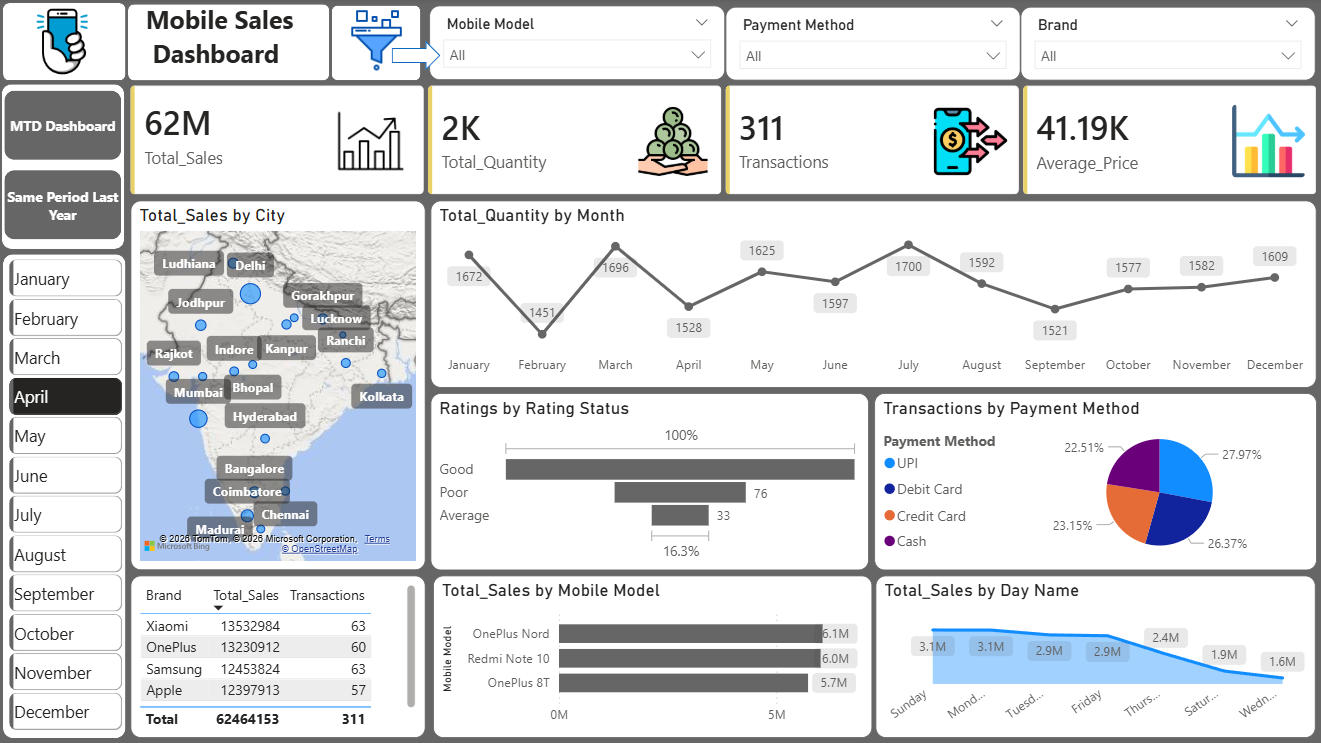

The dashboard page shown, as its layout file describes it:
{"tool":"powerbi","page":{"name":"Dashboard","canvas":[1280,720],"ordinal":0},"visuals":[{"type":"shape","box":[4.8,4.8,118.2,74.8],"z":0},{"type":"shape","box":[4,83,118.2,159],"z":1000},{"type":"shape","box":[4.8,247,118.2,467],"z":2000},{"type":"shape","box":[125.5,6,194.2,73.6],"z":3000},{"type":"shape","box":[322.1,7.2,85.7,72.4],"z":4000},{"type":"advancedSlicerVisual","fields":{"Values":["Custom_Calendar.Date.Variation.Date Hierarchy.Month"]},"box":[8.4,252.1,113.4,462.1],"z":5000},{"type":"cardVisual","fields":{"Data":["Mobile_Data_Sales.Total_Sales","Mobile_Data_Sales.Total_Quantity","Mobile_Data_Sales.Transactions","Mobile_Data_Sales.Average_Price"]},"box":[123.1,79.6,1157,115.8],"z":6000},{"type":"textbox","box":[137.5,0,182.2,79.6],"z":7000},{"type":"slicer","fields":{"Values":["Mobile_Data_Sales.Mobile Model"]},"box":[416.2,7.2,285.9,72.4],"z":8000},{"type":"slicer","fields":{"Values":["Mobile_Data_Sales.Payment Method"]},"box":[702.1,8.4,284.7,71.2],"z":9000},{"type":"slicer","fields":{"Values":["Mobile_Data_Sales.Brand"]},"box":[986.9,8.4,284.7,71.2],"z":10000},{"type":"shape","box":[380,41,47.1,29],"z":11000},{"type":"image","box":[328.2,10.9,74.8,60.3],"z":12000},{"type":"lineChart","fields":{"Y":["Mobile_Data_Sales.Total_Quantity"],"Category":["Custom_Calendar.Date.Variation.Date Hierarchy.Month"]},"box":[417.4,195.4,855.4,181],"z":13000},{"type":"funnel","title":"Ratings by Rating Status","fields":{"Y":["CountNonNull(Mobile_Data_Sales.Customer Ratings)"],"Category":["Mobile_Data_Sales.Rating Status"]},"box":[417.4,381.2,423.5,171.3],"z":14000},{"type":"pieChart","fields":{"Y":["Mobile_Data_Sales.Transactions"],"Category":["Mobile_Data_Sales.Payment Method"]},"box":[845.7,381.2,427.1,171.3],"z":15000},{"type":"map","fields":{"Category":["Mobile_Data_Sales.City"],"Size":["Mobile_Data_Sales.Total_Sales"]},"box":[127.9,195.4,284.7,357.1],"z":16000},{"type":"clusteredBarChart","fields":{"Y":["Mobile_Data_Sales.Total_Sales"],"Category":["Mobile_Data_Sales.Mobile Model"]},"box":[419.9,557.1,424,156.4],"z":17000},{"type":"areaChart","fields":{"Category":["Custom_Calendar.Day Name"],"Y":["Mobile_Data_Sales.Total_Sales"]},"box":[846.9,557.4,424.7,156.8],"z":18000},{"type":"tableEx","fields":{"Values":["Mobile_Data_Sales.Brand","Mobile_Data_Sales.Total_Sales","Mobile_Data_Sales.Transactions"]},"box":[127.9,557.4,284.7,156.8],"z":19000},{"type":"pageNavigator","box":[6,89.3,113.4,144.8],"z":20000},{"type":"image","box":[18.1,0,88.1,83.2],"z":21000}]}

Visuals, with their boxes in screenshot pixels (x1, y1, x2, y2), scaled from the page's 1280x720 canvas onto the 1321x743 screenshot:
shape: bbox=[5, 5, 127, 82]
shape: bbox=[4, 86, 126, 250]
shape: bbox=[5, 255, 127, 737]
shape: bbox=[130, 6, 330, 82]
shape: bbox=[332, 7, 421, 82]
advancedSlicerVisual - Custom_Calendar.Date.Variation.Date Hierarchy.Month: bbox=[9, 260, 126, 737]
cardVisual - Mobile_Data_Sales.Total_Sales x Mobile_Data_Sales.Total_Quantity: bbox=[127, 82, 1320, 202]
textbox: bbox=[142, 0, 330, 82]
slicer - Mobile_Data_Sales.Mobile Model: bbox=[430, 7, 725, 82]
slicer - Mobile_Data_Sales.Payment Method: bbox=[725, 9, 1018, 82]
slicer - Mobile_Data_Sales.Brand: bbox=[1019, 9, 1312, 82]
shape: bbox=[392, 42, 441, 72]
image: bbox=[339, 11, 416, 73]
lineChart - Mobile_Data_Sales.Total_Quantity x Custom_Calendar.Date.Variation.Date Hierarchy.Month: bbox=[431, 202, 1314, 388]
"Ratings by Rating Status" funnel: bbox=[431, 393, 868, 570]
pieChart - Mobile_Data_Sales.Transactions x Mobile_Data_Sales.Payment Method: bbox=[873, 393, 1314, 570]
map - Mobile_Data_Sales.City x Mobile_Data_Sales.Total_Sales: bbox=[132, 202, 426, 570]
clusteredBarChart - Mobile_Data_Sales.Total_Sales x Mobile_Data_Sales.Mobile Model: bbox=[433, 575, 871, 736]
areaChart - Custom_Calendar.Day Name x Mobile_Data_Sales.Total_Sales: bbox=[874, 575, 1312, 737]
tableEx - Mobile_Data_Sales.Brand x Mobile_Data_Sales.Total_Sales: bbox=[132, 575, 426, 737]
pageNavigator: bbox=[6, 92, 123, 242]
image: bbox=[19, 0, 110, 86]
